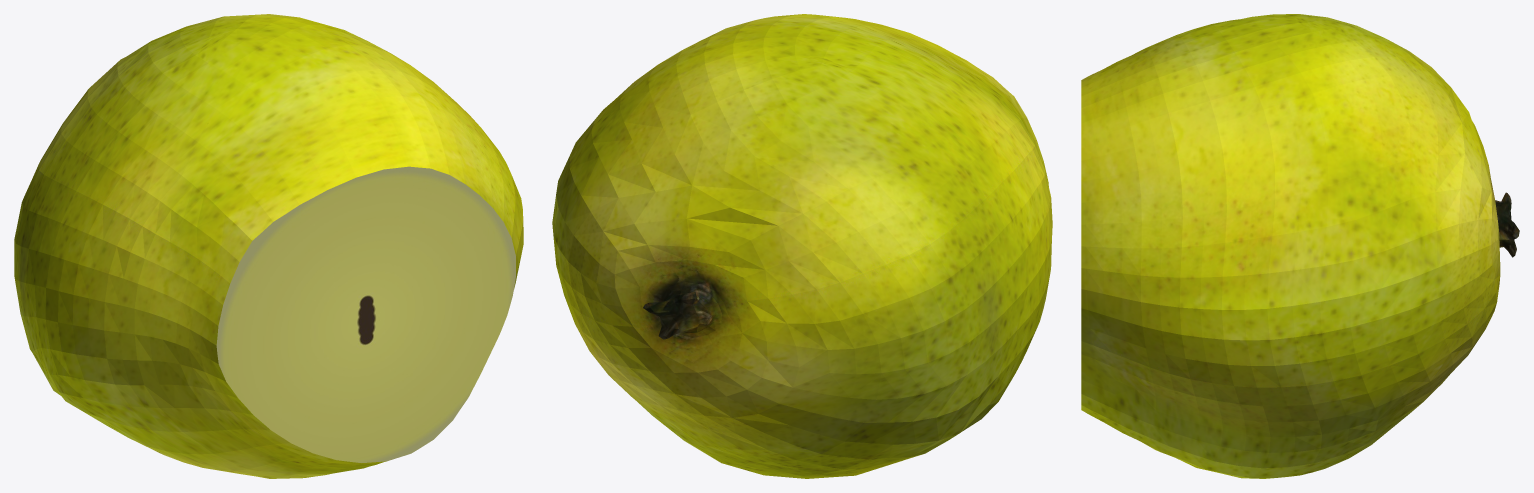
The model's file is pear_left.obj.
3 renders of one model, left to right at view 1: azimuth 30°, elevation 25°; view 2: azimuth 150°, elevation 25°; view 3: azimuth 270°, elevation 25°, orthographic. The views are drawn at different scales.
Parts seen in each view (by area): view 1: fruit_half; view 2: fruit_half; view 3: fruit_half.
Boxes of the visible parts, x1,y1,x2,y2 form: fruit_half: (14,14,523,478); fruit_half: (552,14,1052,478); fruit_half: (1081,14,1519,478).
Size of the model in its own units: 1.1 by 0.9959 by 0.9507.
